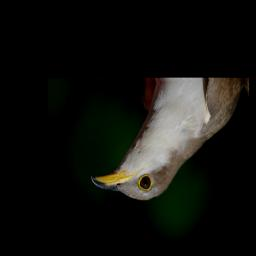Cuckoo: (88, 79, 247, 205)
